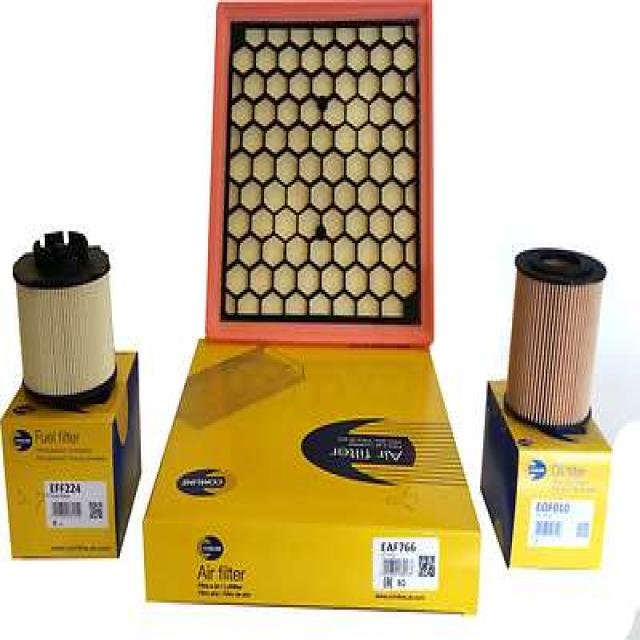air_filter: (205, 0, 440, 351)
oil_filter: (12, 222, 122, 402), (509, 243, 610, 427)
